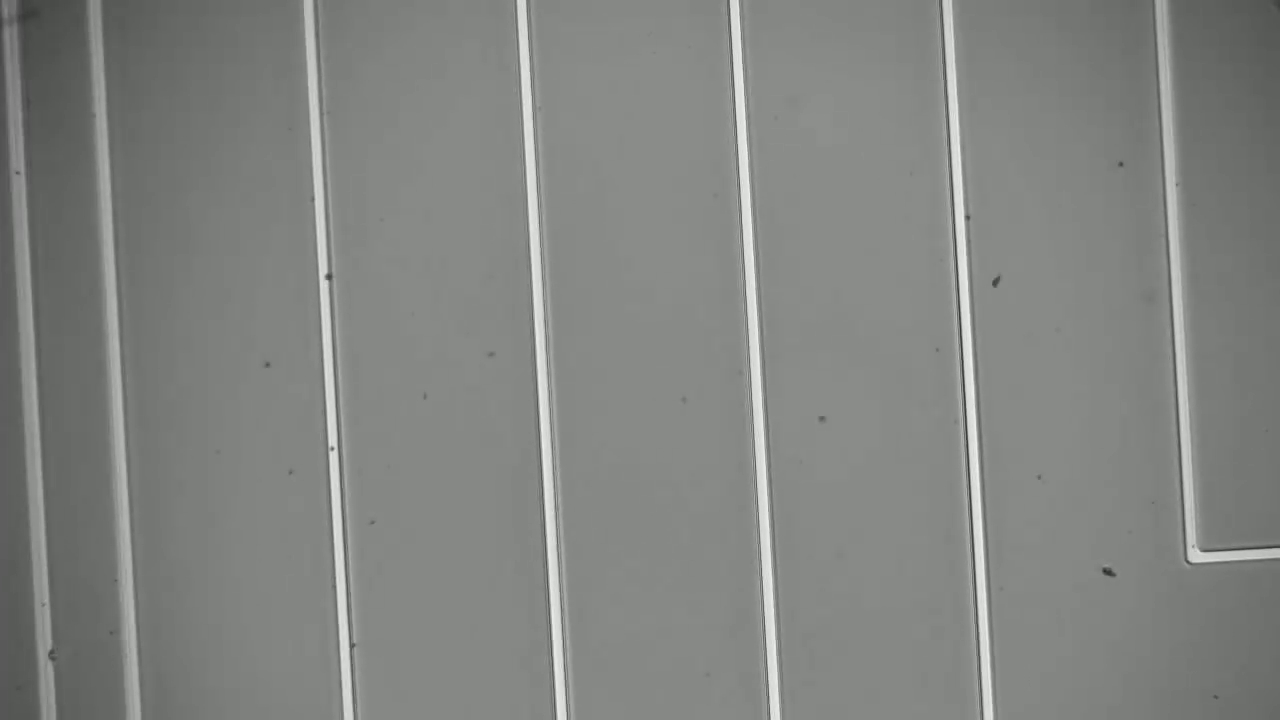stains_enbedded: (43, 647, 61, 666)
